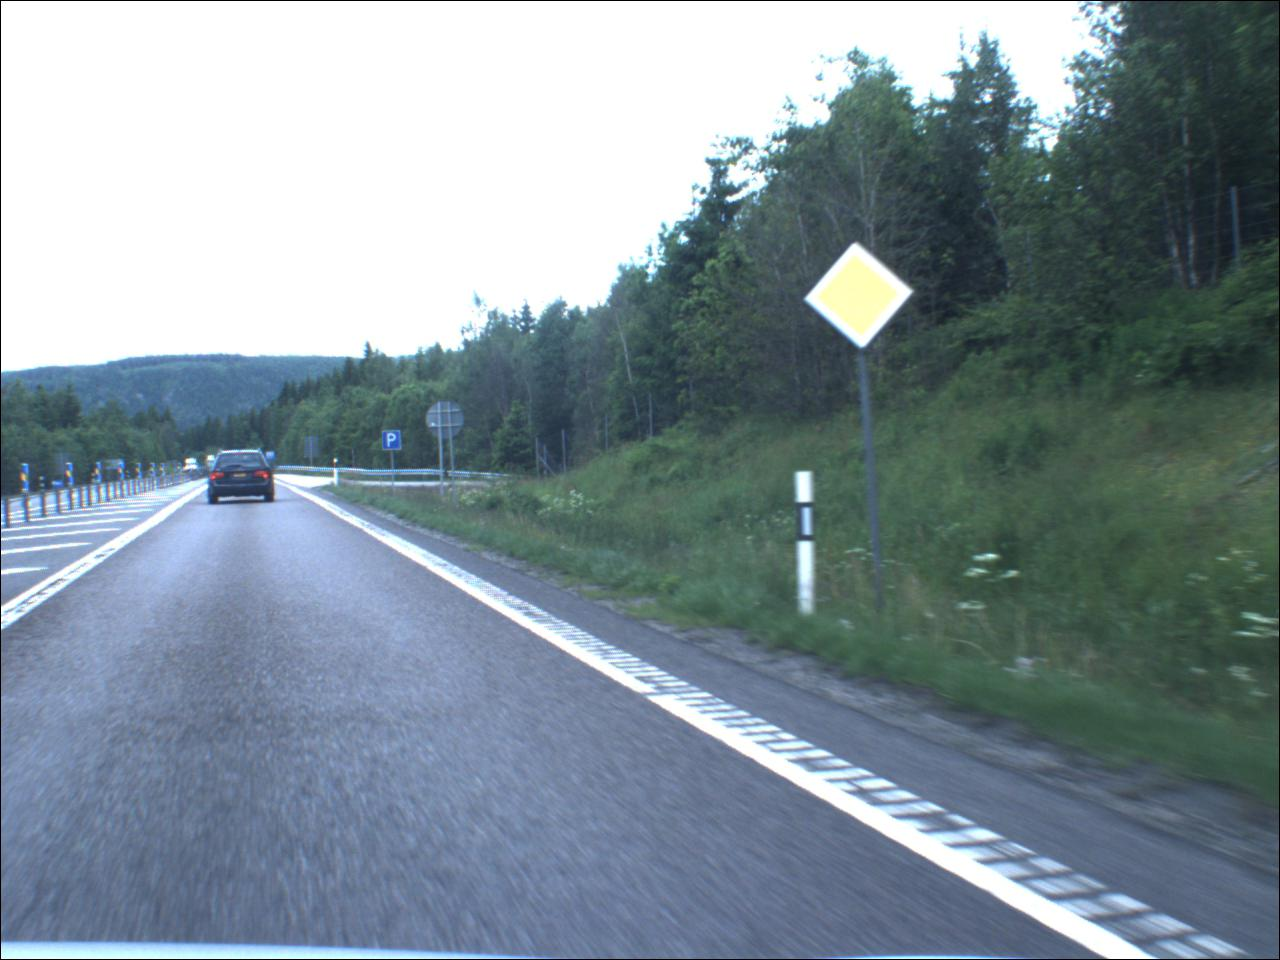PRIORITY_ROAD: (803, 241, 918, 352)
